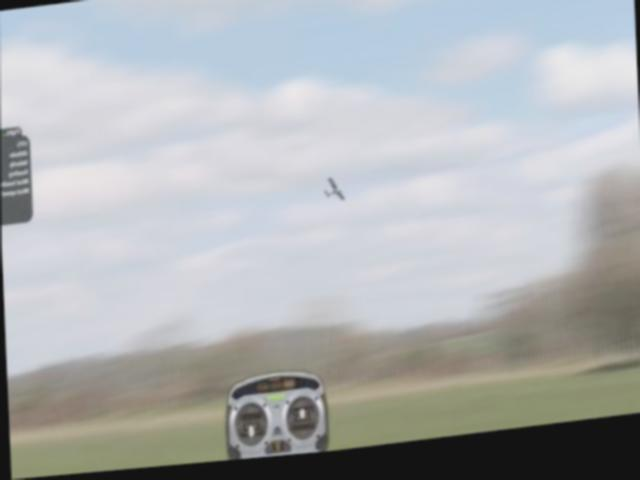uav: (318, 175, 355, 214)
